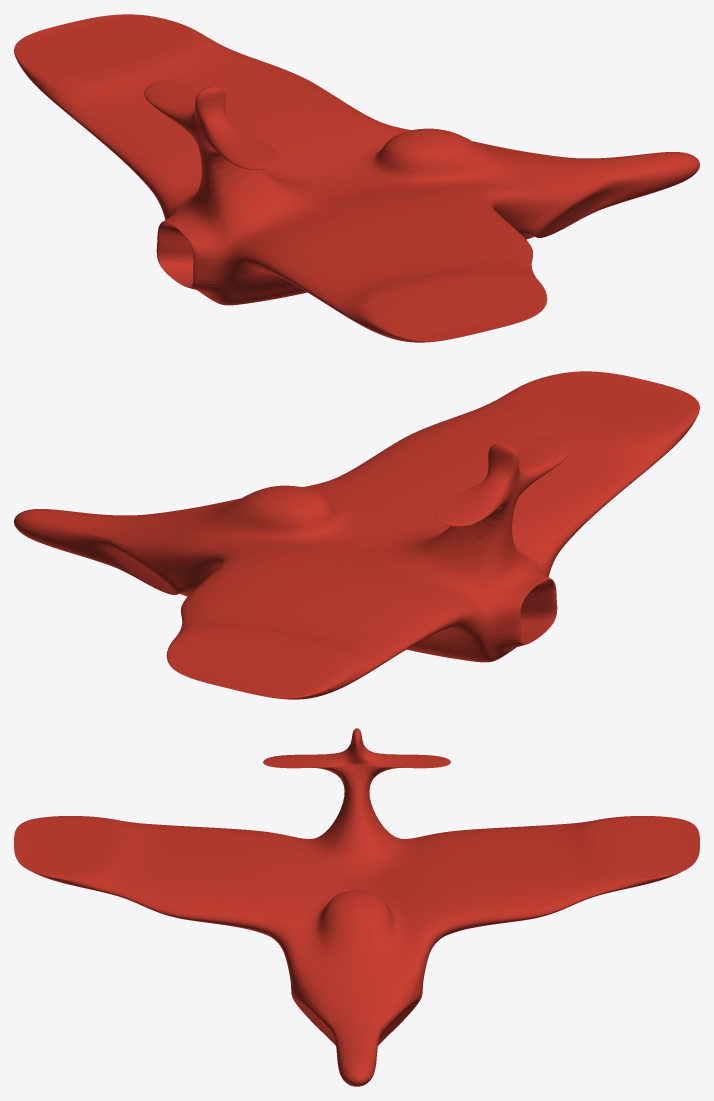
The picture shows the model from 3 angles, top to bottom: view 1: azimuth 30°, elevation 25°; view 2: azimuth 150°, elevation 25°; view 3: azimuth 270°, elevation 25°; orthographic projection. The views are drawn at different scales.
Parts seen in each view (by area): view 1: MeshBody1; view 2: MeshBody1; view 3: MeshBody1.
Part boxes in pixels (x1=…): MeshBody1: x1=14, y1=14, x2=699, y2=342; MeshBody1: x1=14, y1=371, x2=699, y2=699; MeshBody1: x1=14, y1=728, x2=699, y2=1086.
Size of the model in its own units: 515 by 206 by 716.
